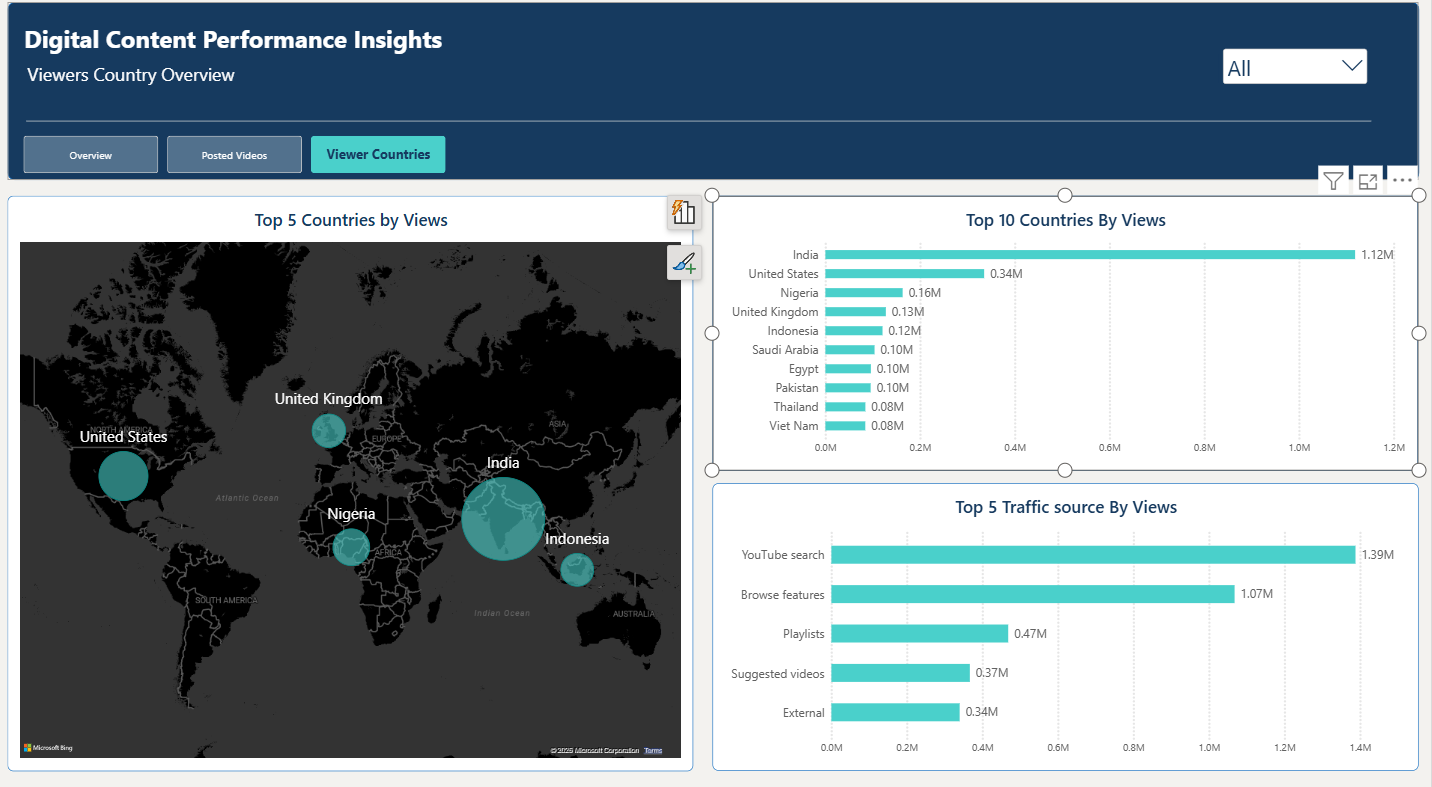

Layout of this report page (visuals, bound fields, positions):
{"tool":"powerbi","page":{"name":"Viewer Countries","canvas":[1920,1080],"ordinal":2},"visuals":[{"type":"shape","box":[1594,40,228,116],"z":0},{"type":"shape","box":[16,14,1886,238],"z":1000},{"type":"textbox","box":[30,40,620,54],"z":2000},{"type":"textbox","title":"Header part 2","box":[30,94,620,74],"z":3000},{"type":"shape","title":"Header part","box":[41,155.7,1796.7,34.4],"z":4000},{"type":"clusteredBarChart","title":"Top 5 Traffic source By Views","fields":{"Category":["Traffic.Traffic source"],"Y":["Sum(Traffic.Views)"]},"box":[958.8,656.9,943.1,384.3],"z":5000},{"type":"slicer","fields":{"Values":["DateTable.Year"]},"box":[1634,70,204,64],"z":6000},{"type":"clusteredBarChart","title":"Top 10 Countries By Views","fields":{"Category":["Location.Country"],"Y":["Sum(Location.Views)"]},"box":[959,272.1,942.6,367.2],"z":7000},{"type":"map","title":"Top 5 Countries by Views","fields":{"Category":["Location.Country"],"Size":["Sum(Location.Views)"]},"box":[16.4,272.1,916.4,768.9],"z":7001},{"type":"pageNavigator","box":[29.5,191.8,573.8,50.8],"z":7002}]}

Visuals, with their boxes on the page's 1920x1080 design canvas (x1, y1, x2, y2). These are canvas units, not pixel positions in the 1432x787 screenshot, which may show the page scaled, cropped or inside an application window:
shape: 1594 40 1822 156
shape: 16 14 1902 252
textbox: 30 40 650 94
"Header part 2" textbox: 30 94 650 168
"Header part" shape: 41 156 1838 190
"Top 5 Traffic source By Views" clusteredBarChart: 959 657 1902 1041
slicer - DateTable.Year: 1634 70 1838 134
"Top 10 Countries By Views" clusteredBarChart: 959 272 1902 639
"Top 5 Countries by Views" map: 16 272 933 1041
pageNavigator: 30 192 603 243
